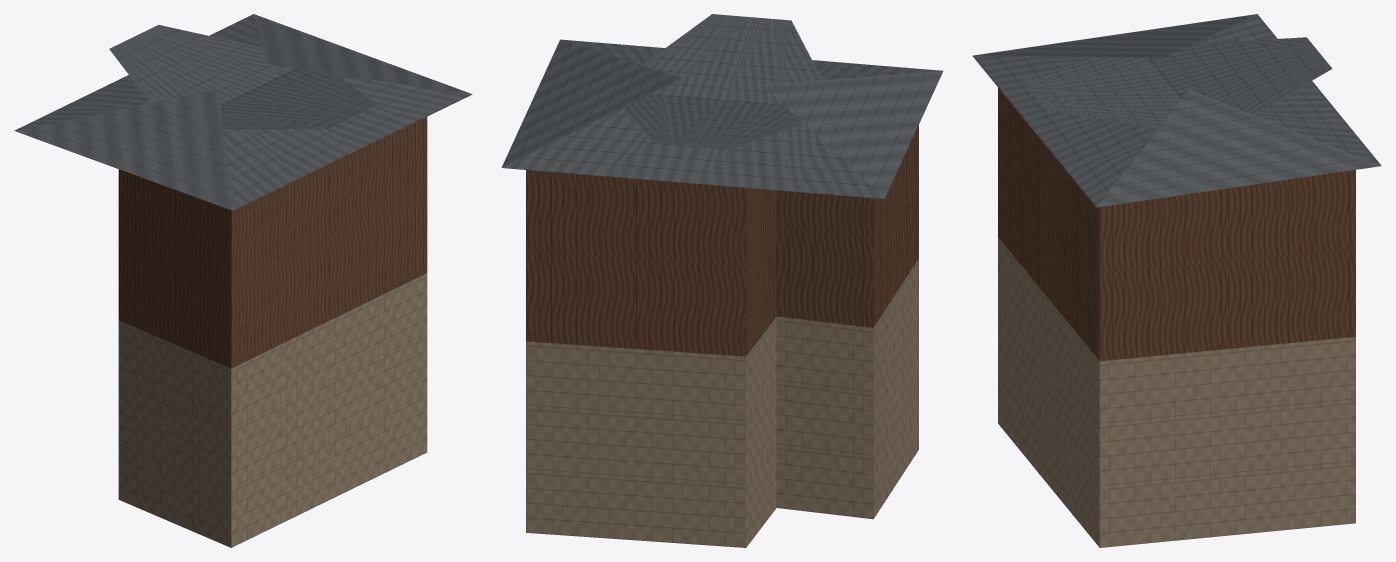
The model's file is bld_c-15_-1_730.gltf.
3 views of the same model, side by side, from view 1: azimuth 30°, elevation 25°; view 2: azimuth 150°, elevation 25°; view 3: azimuth 270°, elevation 25° (orthographic). The views are drawn at different scales.
Parts seen in each view (by area): view 1: bld_c-15_-1_730; view 2: bld_c-15_-1_730; view 3: bld_c-15_-1_730.
Boxes of the visible parts, x1=… form: bld_c-15_-1_730: x1=14, y1=14, x2=472, y2=547; bld_c-15_-1_730: x1=501, y1=14, x2=943, y2=547; bld_c-15_-1_730: x1=972, y1=14, x2=1381, y2=547.
Bounding box in the file's own units: 11.23 × 10.8 × 10.04.
Materials: 3 (3 with a texture image).
